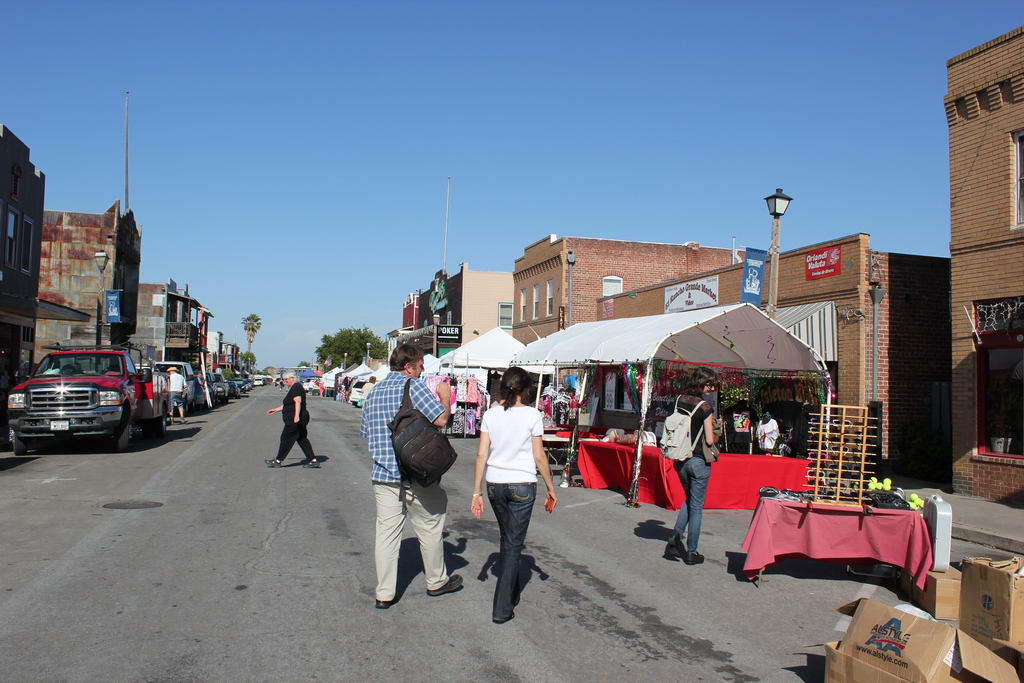mobil: (16, 347, 154, 458)
